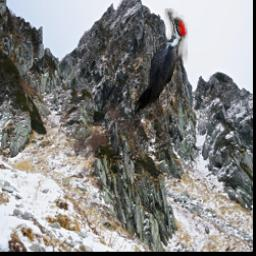Woodpecker: (135, 9, 188, 116)
